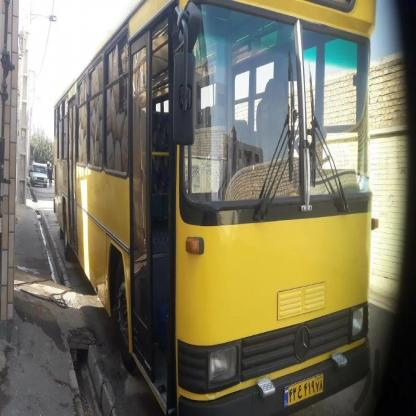Bus: (50, 0, 380, 416)
Car: (27, 158, 48, 191)
